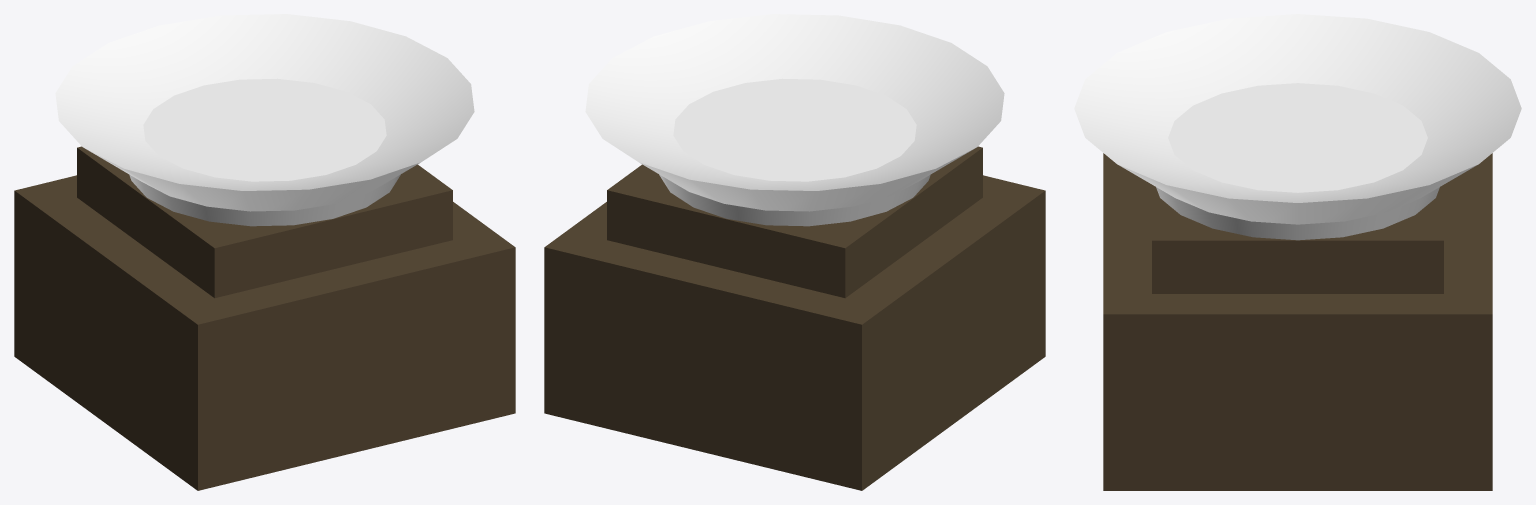
Rendered from plate2.obj.
3 views of the same model, side by side, from view 1: azimuth 30°, elevation 25°; view 2: azimuth 150°, elevation 25°; view 3: azimuth 270°, elevation 25° (orthographic). The views are drawn at different scales.
Parts seen in each view (by area): view 1: plate3:polySurface3; view 2: plate3:polySurface3; view 3: plate3:polySurface3.
Boxes of the visible parts, x1,y1,x2,y2 form: plate3:polySurface3: [14, 14, 515, 490]; plate3:polySurface3: [544, 14, 1045, 490]; plate3:polySurface3: [1074, 14, 1521, 490].
Size of the model in its own units: 1.15 by 0.85 by 1.15.
2 materials, 2 textured.
